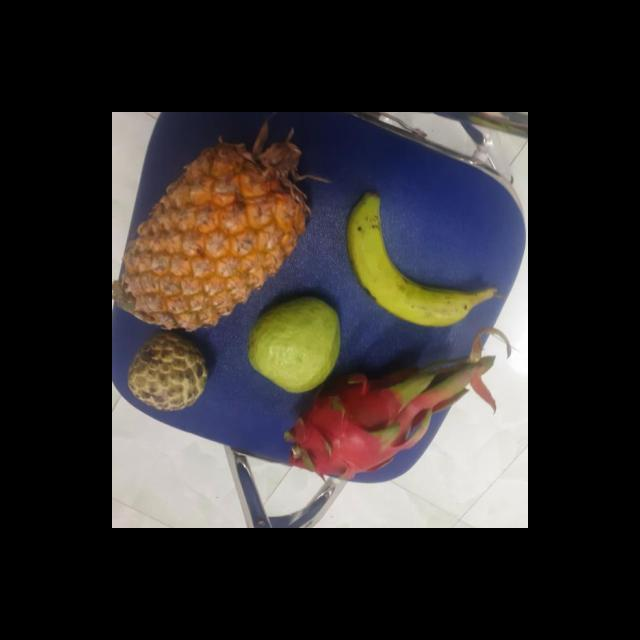Sakya fruit: (127, 331, 214, 410)
banana: (348, 200, 492, 326)
guava: (247, 298, 344, 392)
pineapple: (128, 148, 314, 324)
pitaya: (292, 370, 418, 482)
